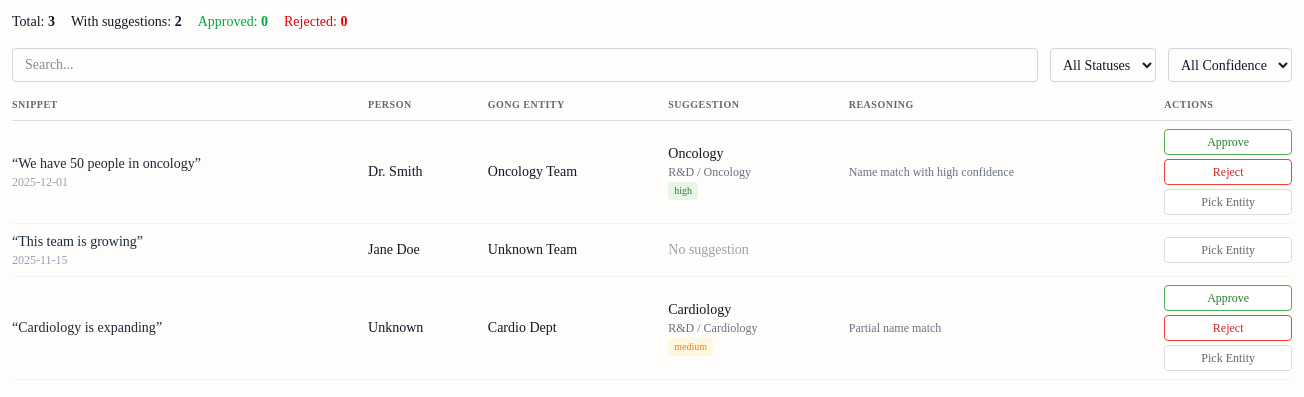
Test case: MatchReviewTable › filters by text search
This screenshot has width=1304, height=397.
Type "oncology" into the field with placeholder "Search..." at (525,65), box x1=12 y1=48 x2=1038 y2=82
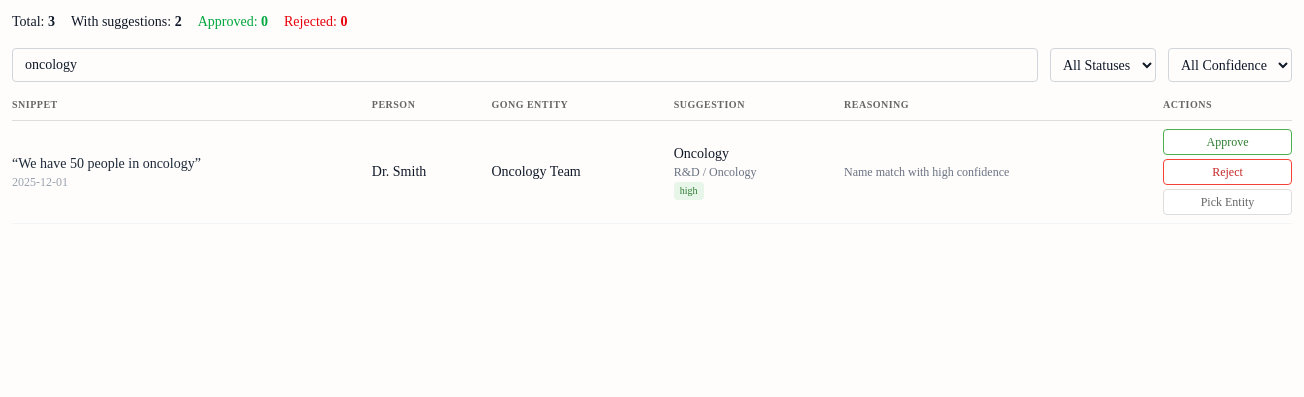
Expected: the text "Oncology Team" is shown, x1=491 y1=164 x2=581 y2=179
Now the text "Unknown Team" is gone
